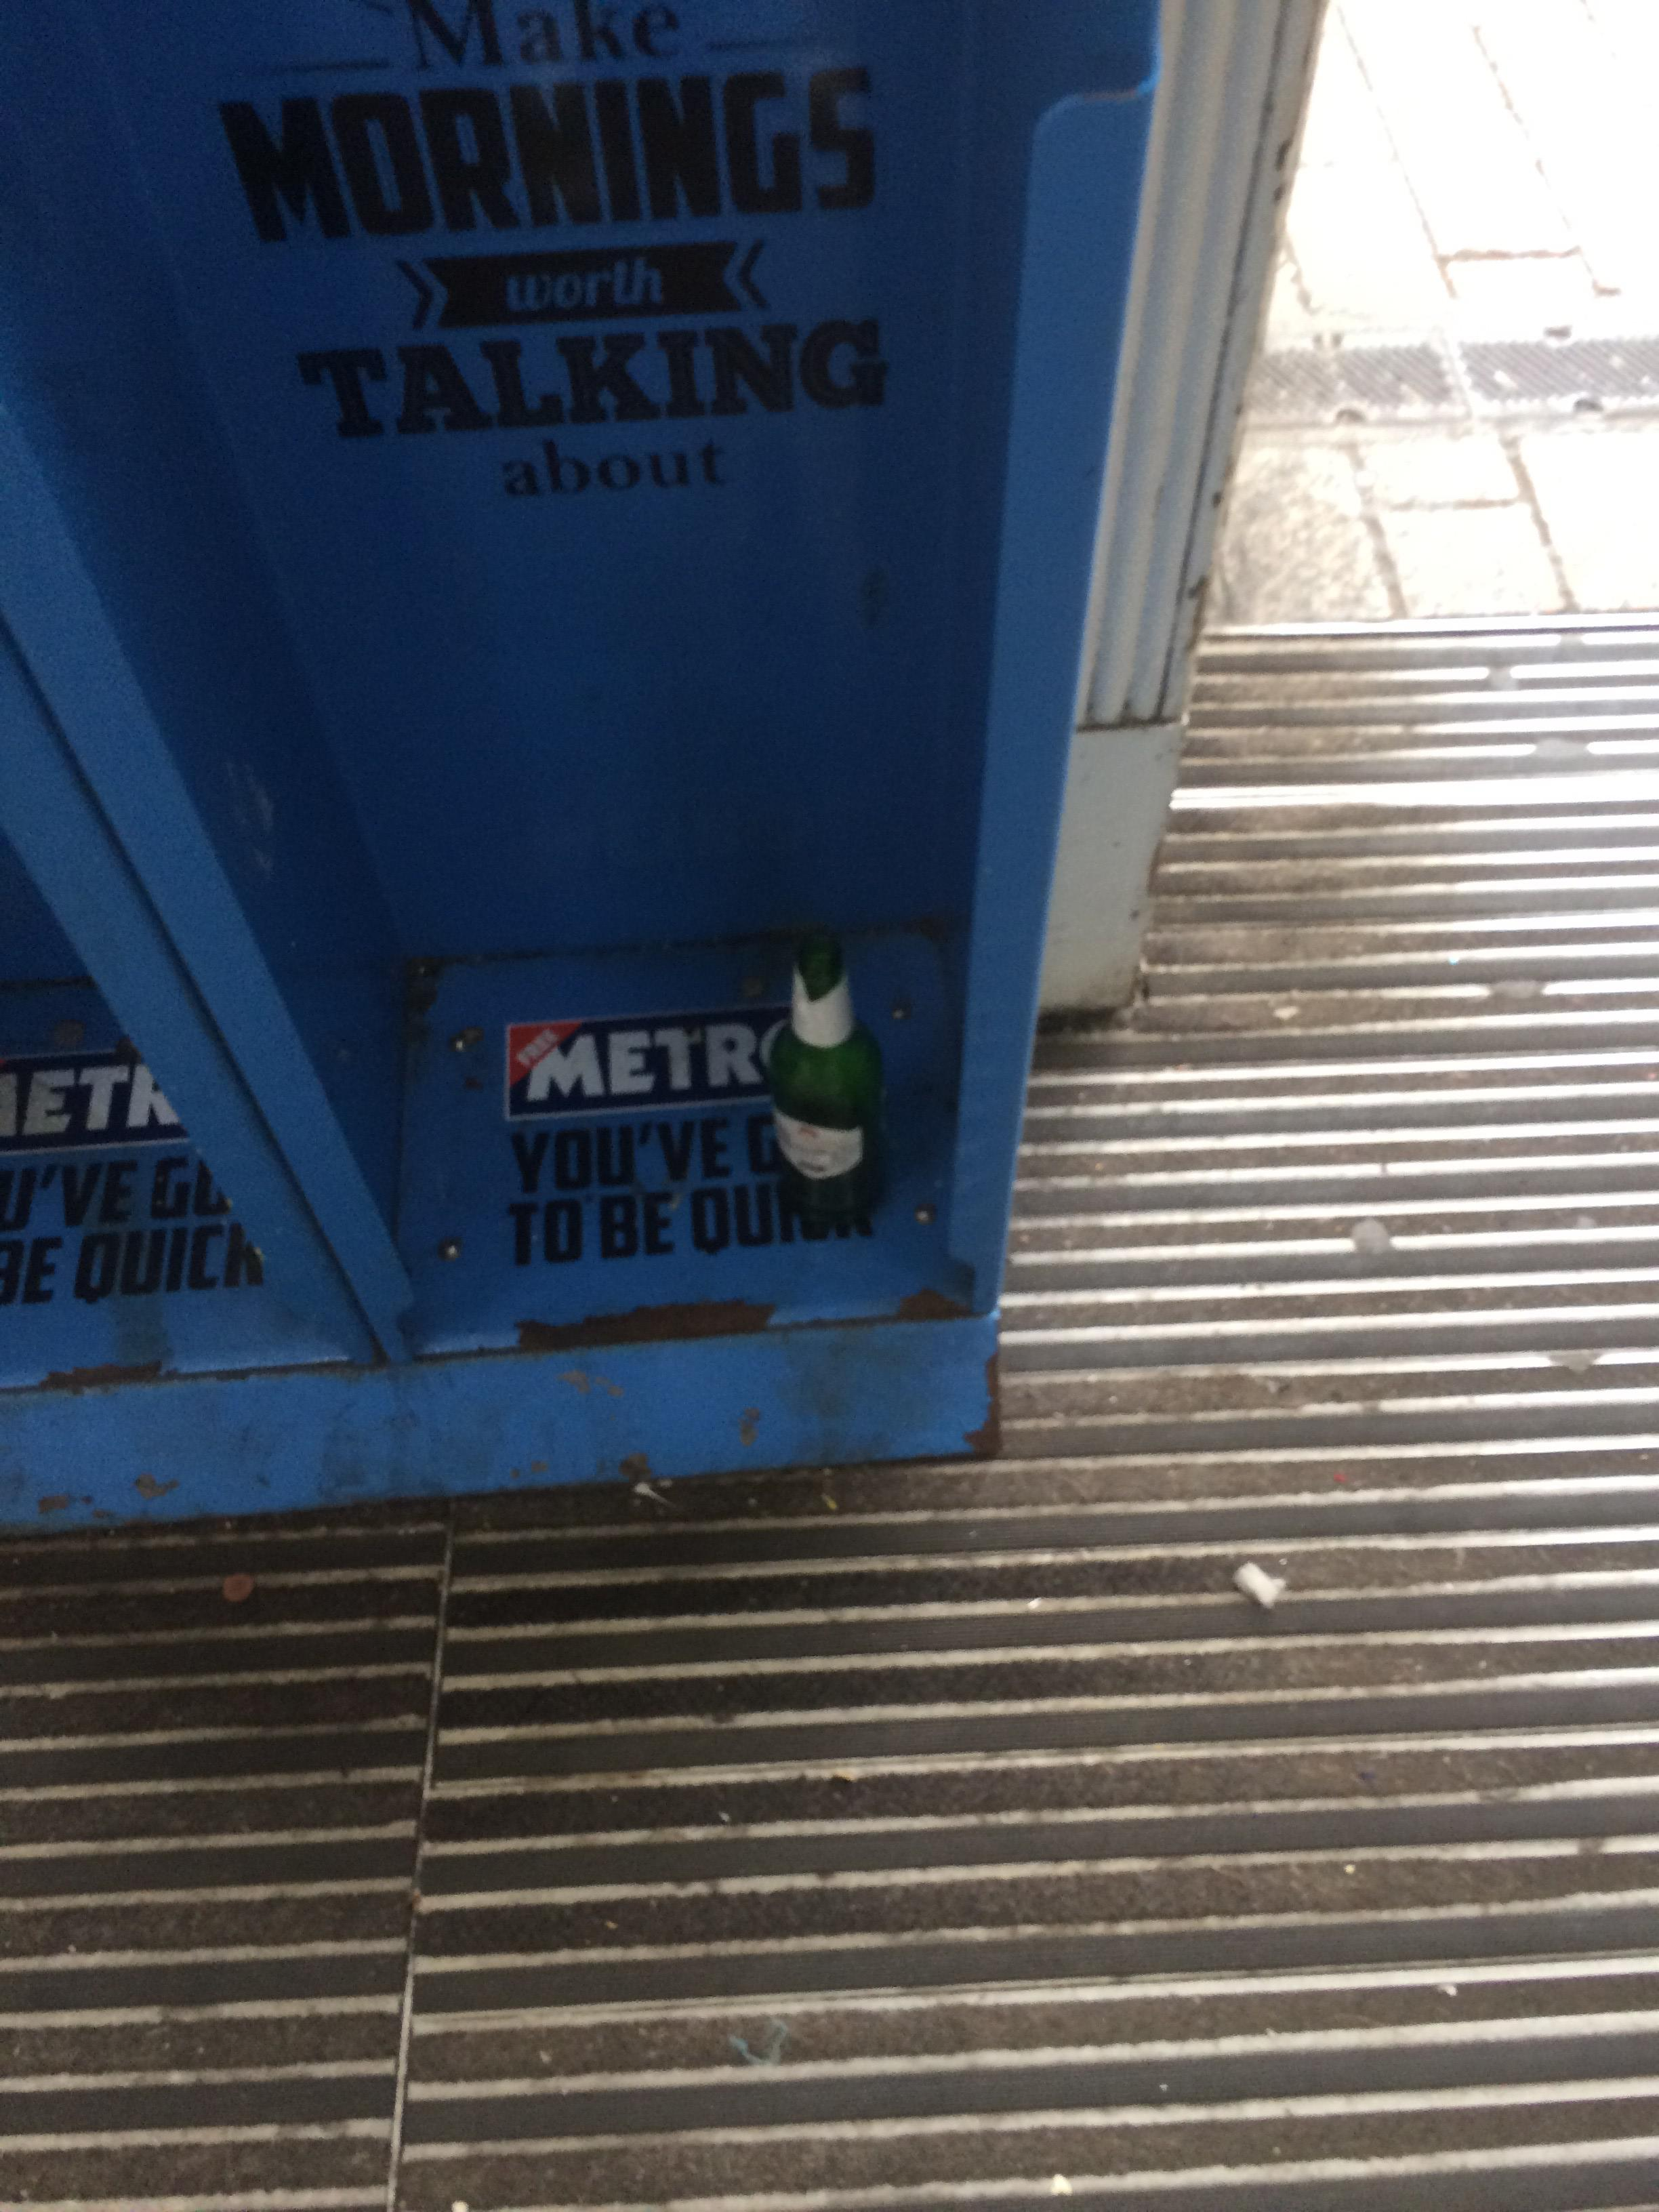Trash: (756, 934, 882, 1211)
